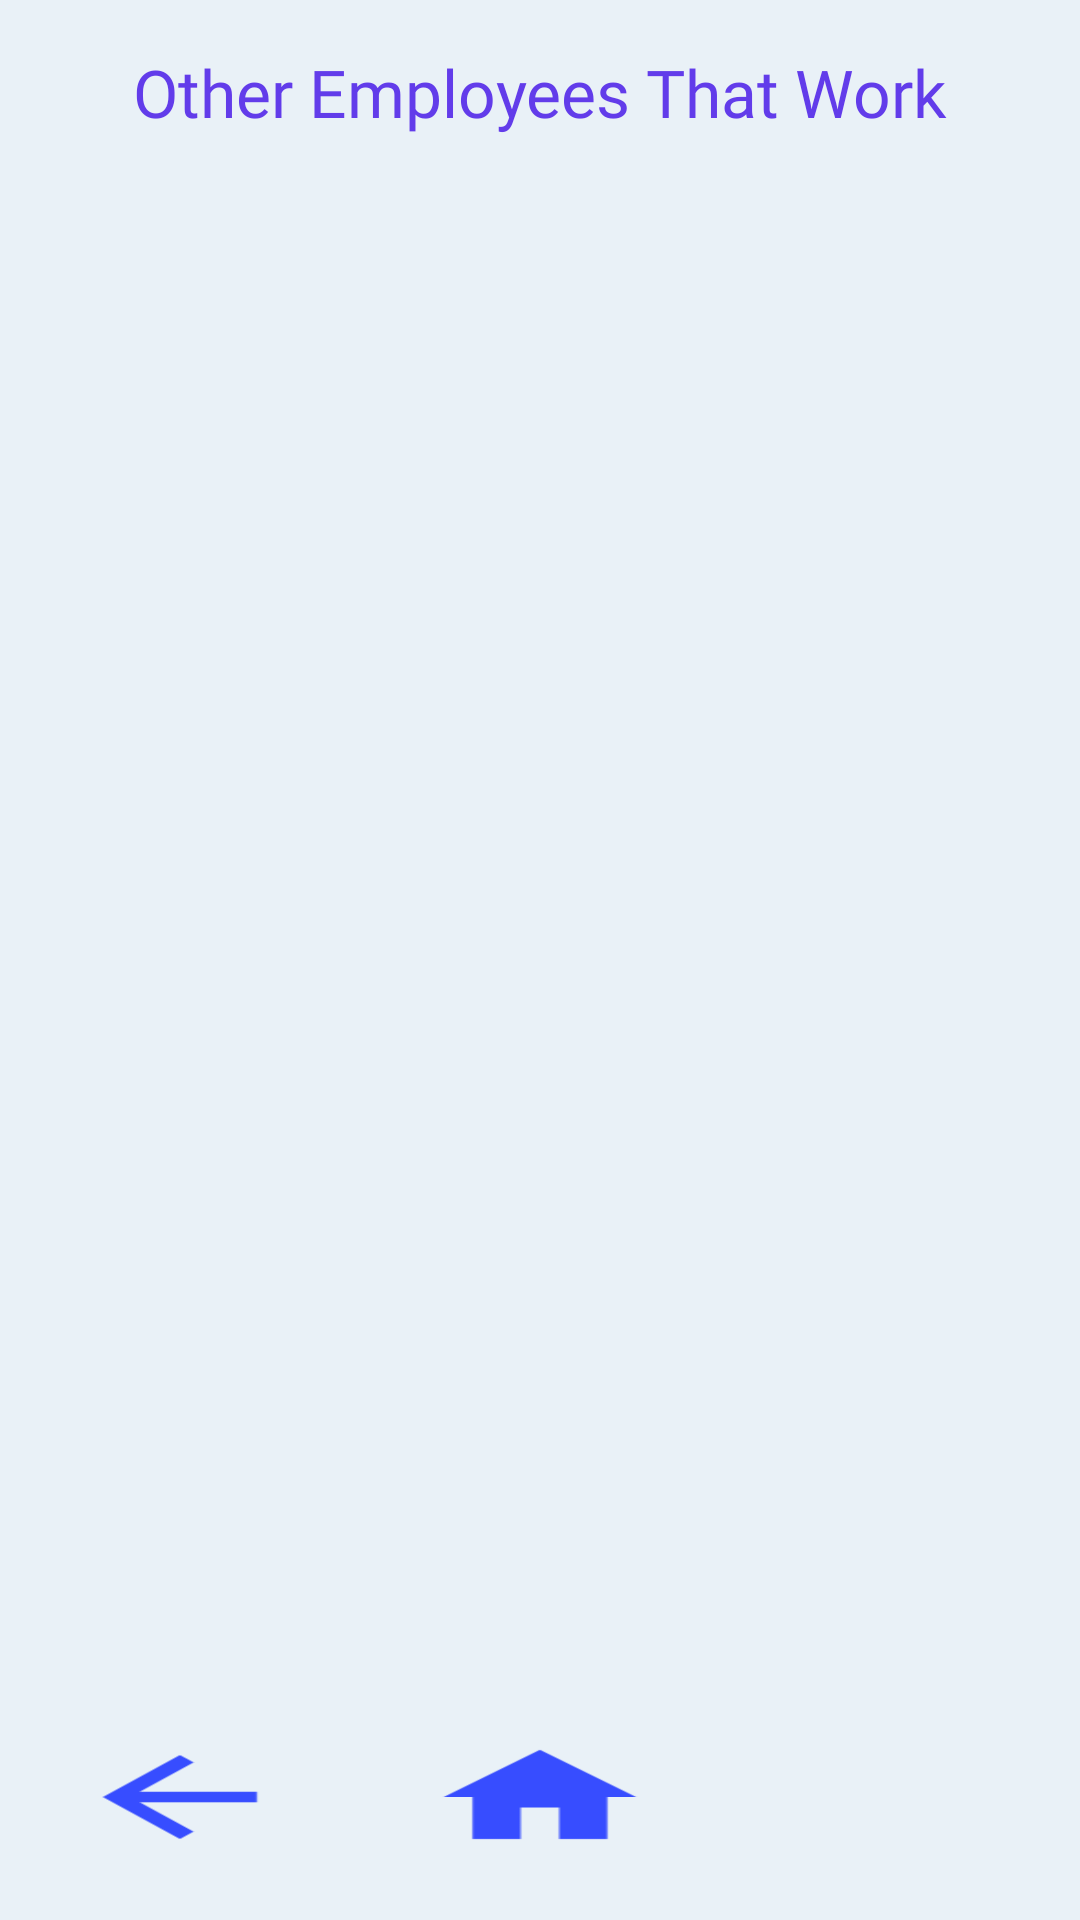

Locate icon controls on the screen. Image size 1080px×1920px, boxes as (x1, y1, x2, y2).
back: (103, 1755, 258, 1839)
home: (444, 1750, 636, 1839)
